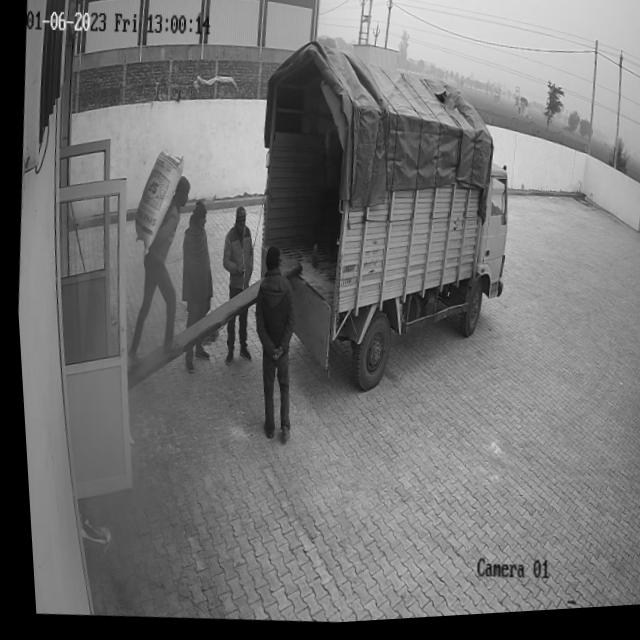sack: (125, 146, 188, 261)
